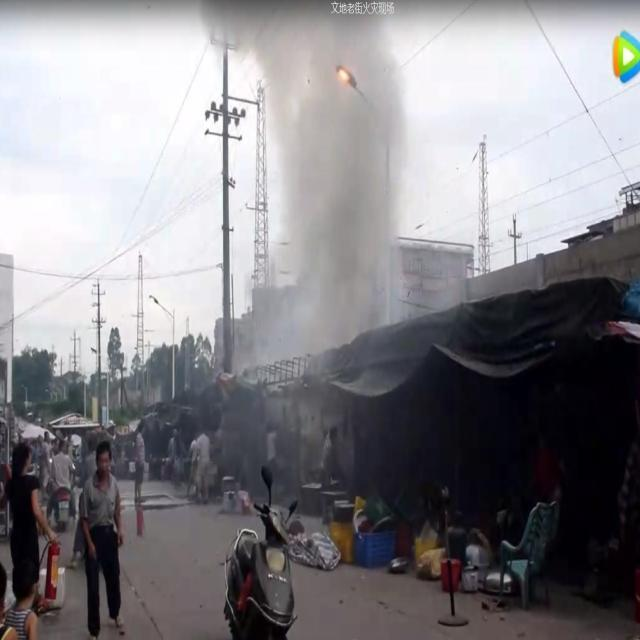Smoke: (198, 2, 414, 369)
